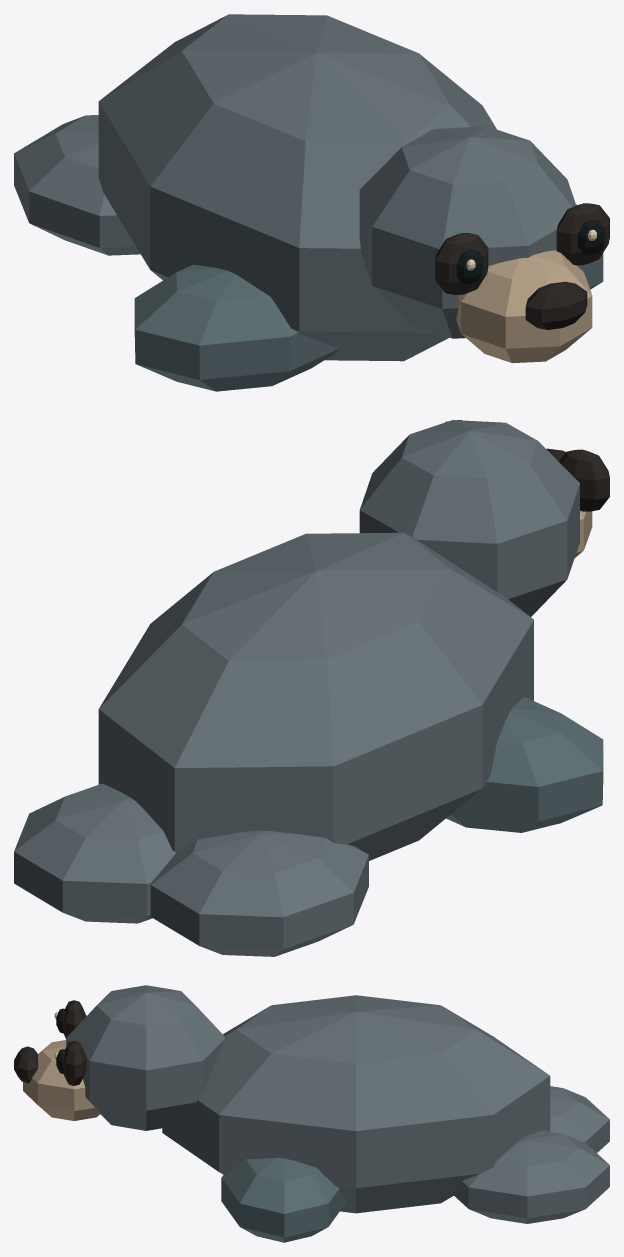
The model's file is fauna-brine_seal.glb.
The picture shows the model from 3 angles, top to bottom: view 1: azimuth 30°, elevation 25°; view 2: azimuth 150°, elevation 25°; view 3: azimuth 270°, elevation 25°; orthographic projection. The views are drawn at different scales.
Parts seen in each view (by area): view 1: Fauna_brine_seal; view 2: Fauna_brine_seal; view 3: Fauna_brine_seal.
Part boxes in pixels (x1=…): Fauna_brine_seal: x1=14, y1=14, x2=609, y2=391; Fauna_brine_seal: x1=14, y1=420, x2=609, y2=956; Fauna_brine_seal: x1=14, y1=985, x2=609, y2=1242.
Bounding box in the file's own units: 1.23 × 0.75 × 1.99.
